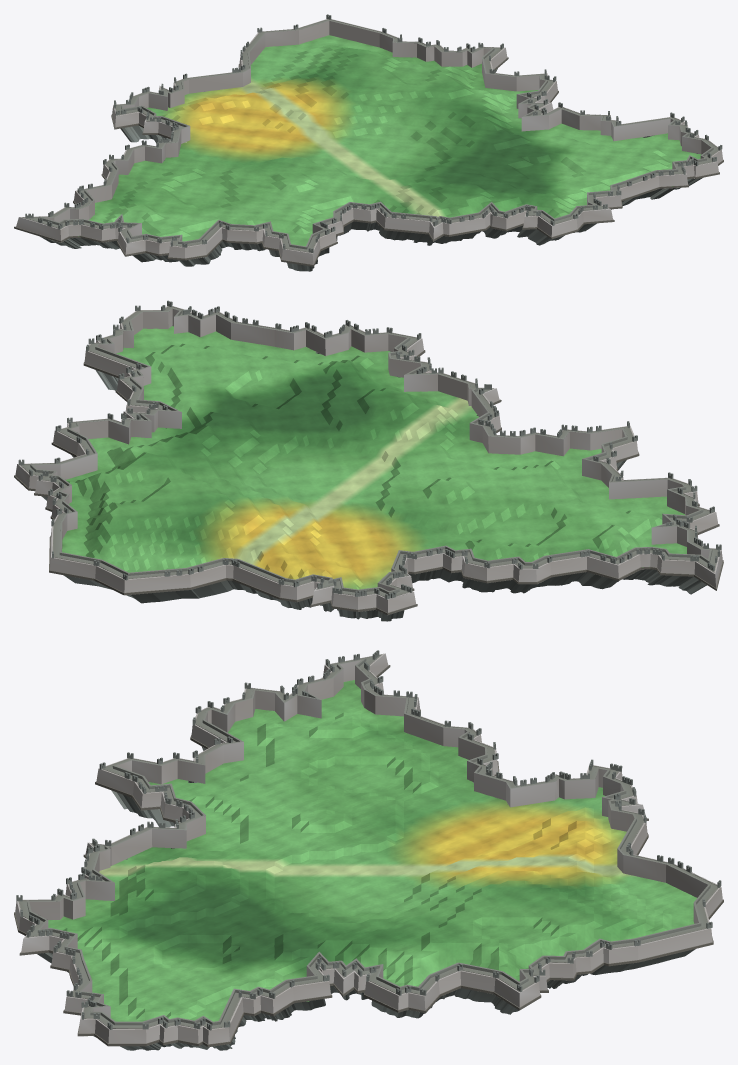
3 views of the same model, one above another, from view 1: azimuth 30°, elevation 25°; view 2: azimuth 150°, elevation 25°; view 3: azimuth 270°, elevation 25° (orthographic). The views are drawn at different scales.
Visible parts, largest first — view 1: ground_703ea133; view 2: ground_703ea133; view 3: ground_703ea133.
Boxes of the visible parts, <box> form: ground_703ea133: <box>14,14,723,271</box>; ground_703ea133: <box>14,300,723,621</box>; ground_703ea133: <box>14,650,723,1050</box>.
Bounding box in the file's own units: 156 × 7.61 × 123.
3 materials, 1 textured.
